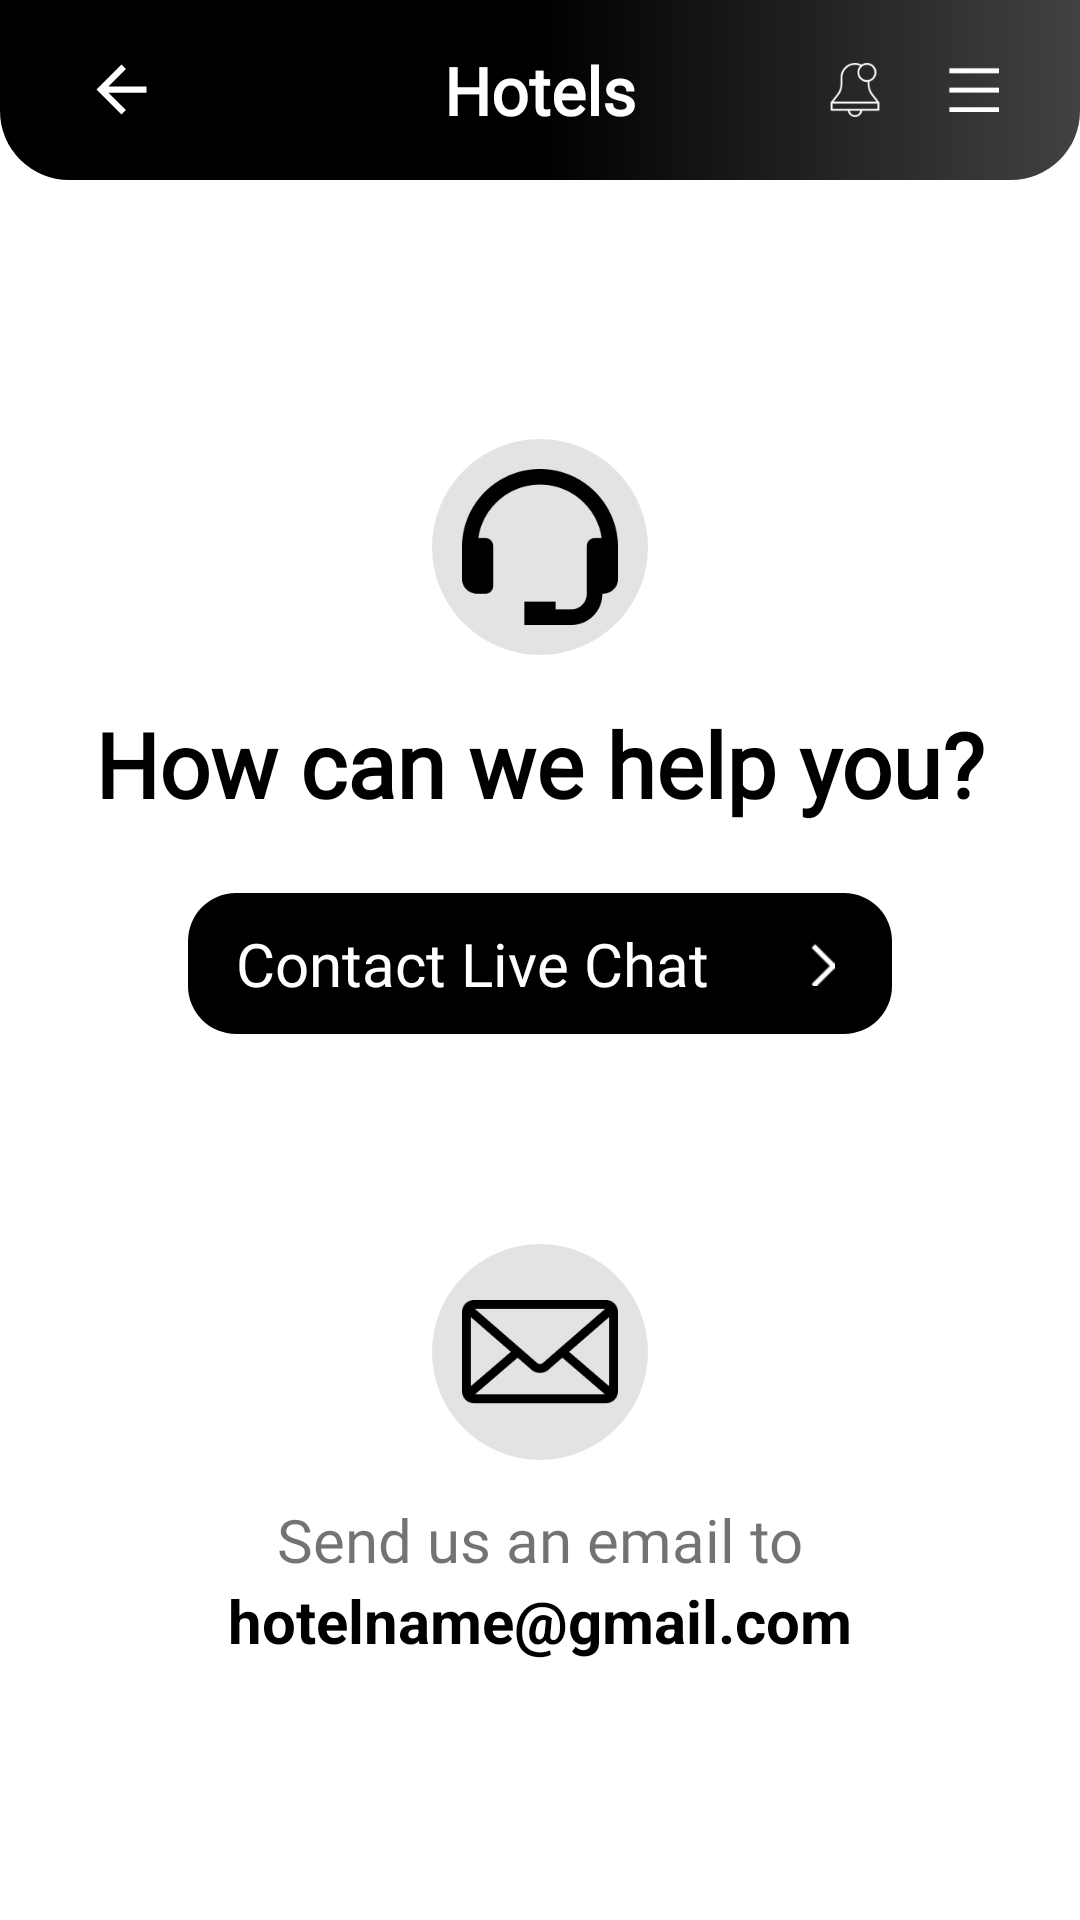

Point at icon controls on the screen. Image size 1080w x 1920h, points as point (x, y).
arrow back: point (121, 89)
bars: point (974, 90)
